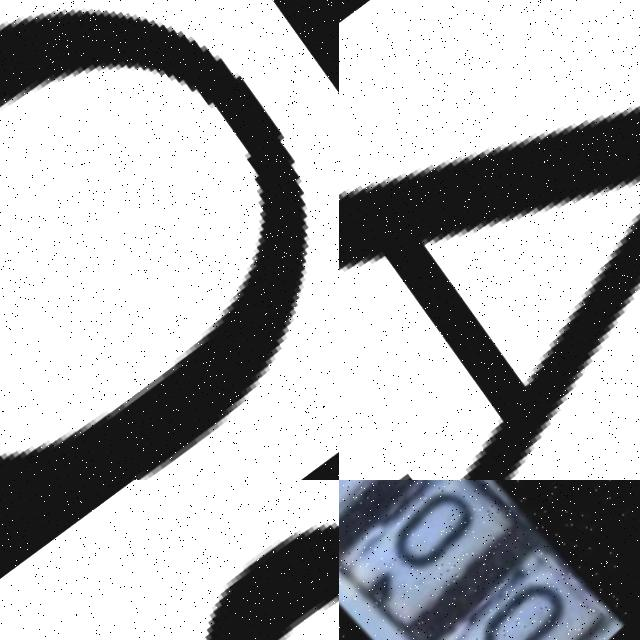0: (375, 480, 510, 588), (466, 552, 603, 640)
A: (339, 0, 640, 480)
O: (0, 3, 317, 480)
R: (0, 480, 339, 640)
